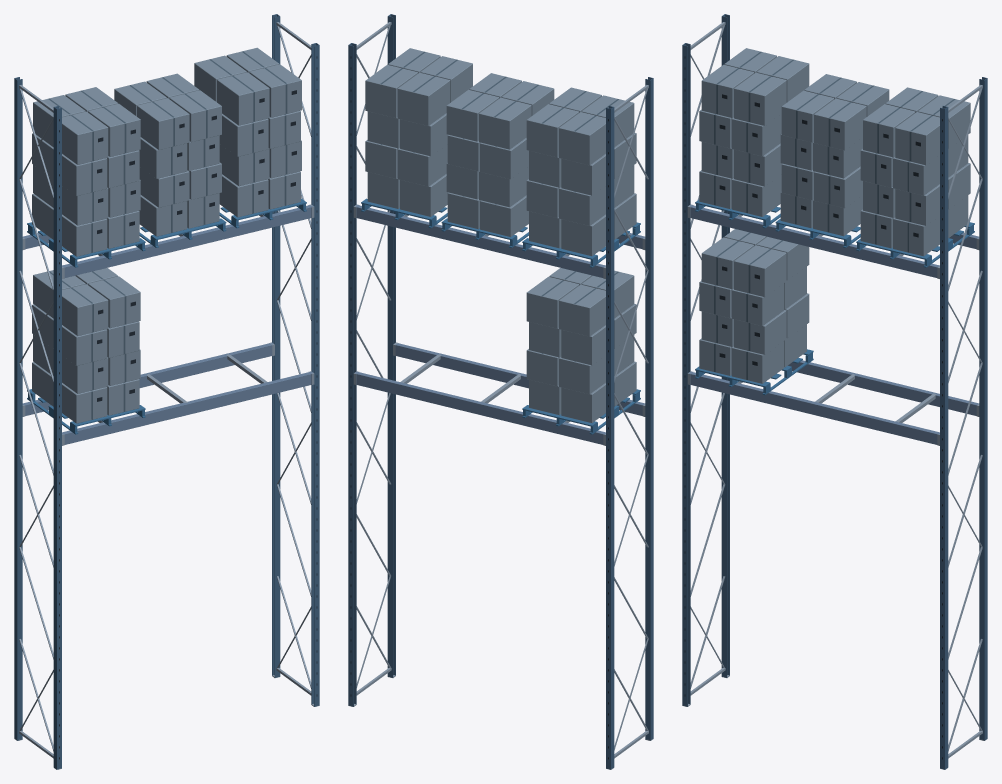
The model's file is SM_GHS_V2Rack_D1_Occ70.fbx.
3 renders of one model, left to right at view 1: azimuth 30°, elevation 25°; view 2: azimuth 150°, elevation 25°; view 3: azimuth 330°, elevation 25°, orthographic.
Visible parts, largest first — view 1: SM_GHS_V2Rack_D1_Occ70; view 2: SM_GHS_V2Rack_D1_Occ70; view 3: SM_GHS_V2Rack_D1_Occ70.
Boxes of the visible parts, <box> form: SM_GHS_V2Rack_D1_Occ70: <box>14,14,319,769</box>; SM_GHS_V2Rack_D1_Occ70: <box>348,14,653,769</box>; SM_GHS_V2Rack_D1_Occ70: <box>682,14,987,769</box>.
Size of the model in its own units: 381 by 122 by 915.
